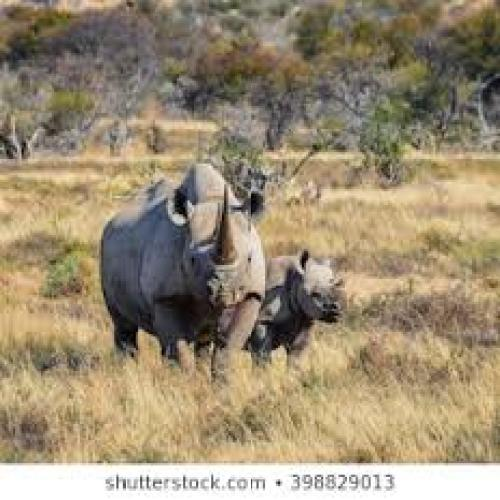rhino-endangered: (101, 168, 267, 369), (265, 255, 341, 364)
